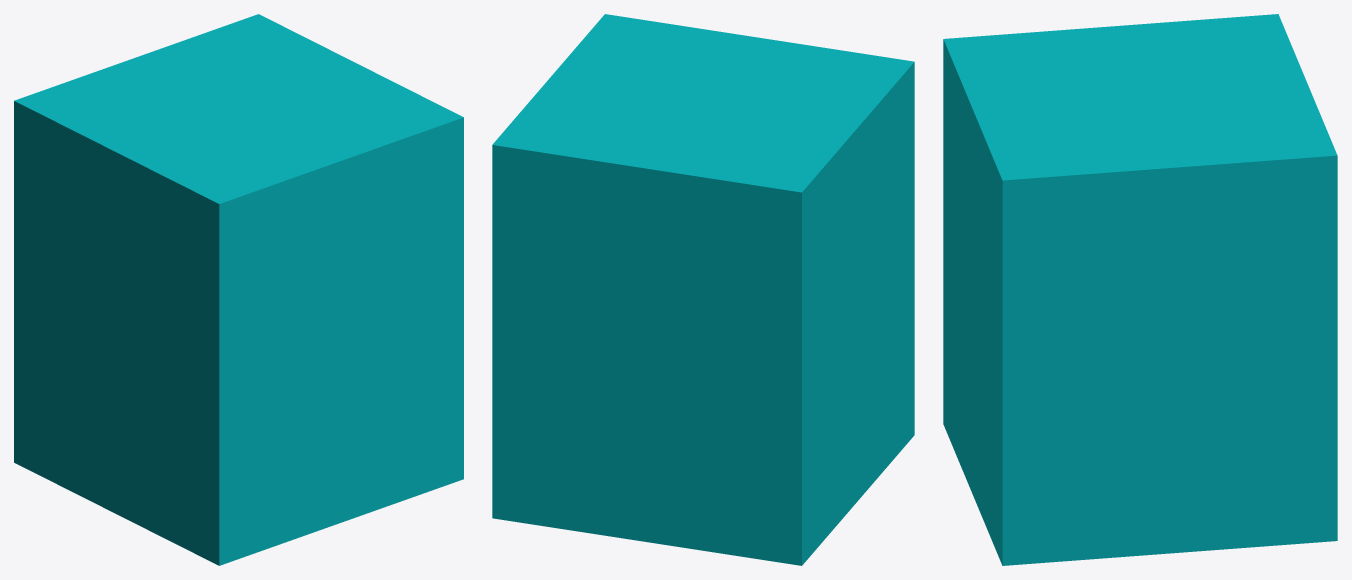
File: arrowSpawner.fbx
3 views of the same model, side by side, from view 1: azimuth 30°, elevation 25°; view 2: azimuth 150°, elevation 25°; view 3: azimuth 270°, elevation 25° (orthographic). The views are drawn at different scales.
Visible parts, largest first — view 1: BP_arrowSpawner; view 2: BP_arrowSpawner; view 3: BP_arrowSpawner.
Part boxes in pixels (<box>): BP_arrowSpawner: <box>14,14,463,565</box>; BP_arrowSpawner: <box>492,14,914,565</box>; BP_arrowSpawner: <box>943,14,1337,565</box>.
Bounding box in the file's own units: 116 × 116 × 125.
